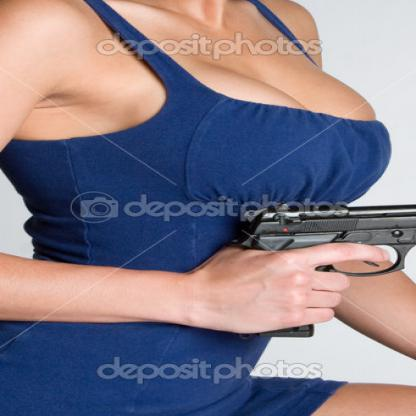gun: (214, 186, 414, 349)
